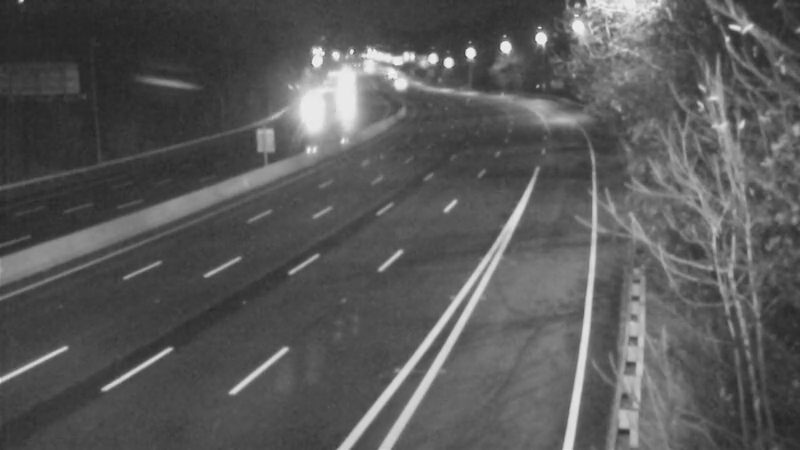vehicle: (375, 56, 425, 106), (287, 77, 337, 127), (318, 76, 368, 126)
